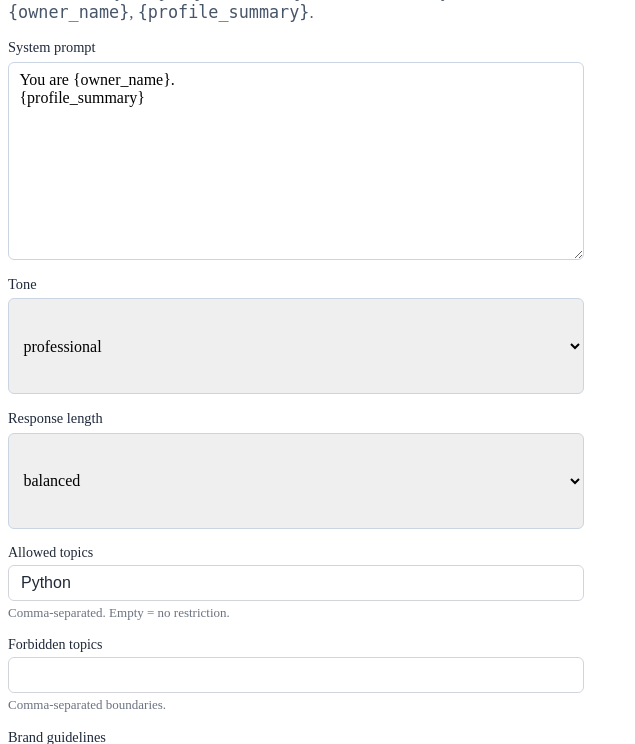
it: ConfigPage › loads and saves twin config
The width and height of the screenshot is (635, 744).
Expected: the text box showing "You are {owner_name}" is shown, [8, 62, 584, 260]
Select "friendly" in the dropdown labelled "Tone" at (296, 346), box [8, 298, 584, 394]
(page scrolled)
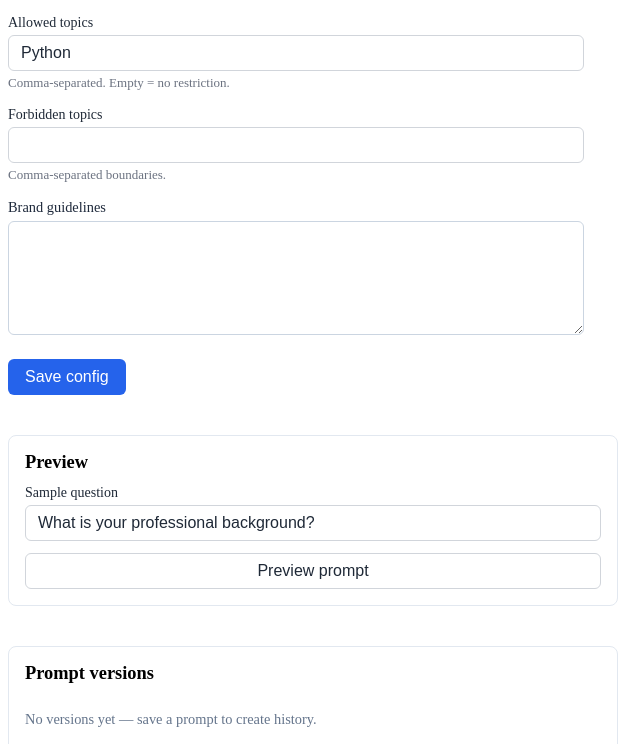
Click the button "Save config" at (67, 377), box [8, 359, 126, 395]
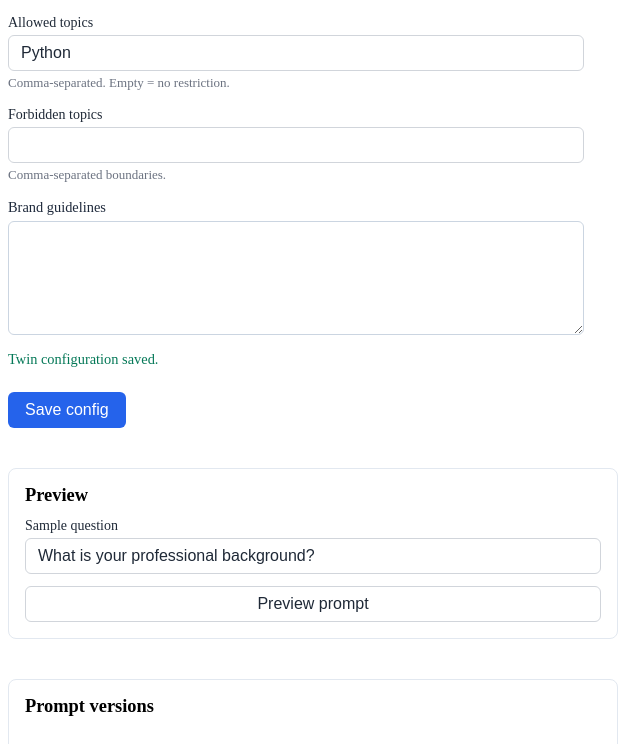
Now the text "Twin configuration saved." is shown, box [8, 351, 158, 367]
